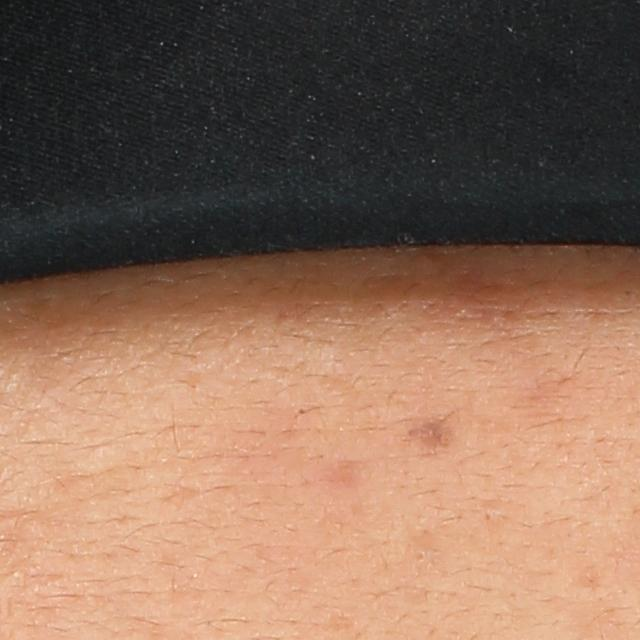comedo: (409, 543, 434, 567), (483, 508, 494, 521)
melasma: (401, 411, 463, 450)
